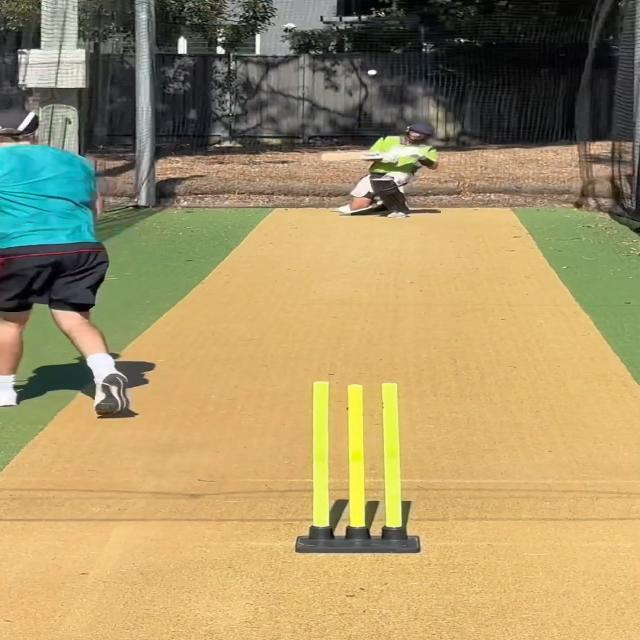ball: (366, 69, 378, 76)
stump: (296, 380, 419, 552)
